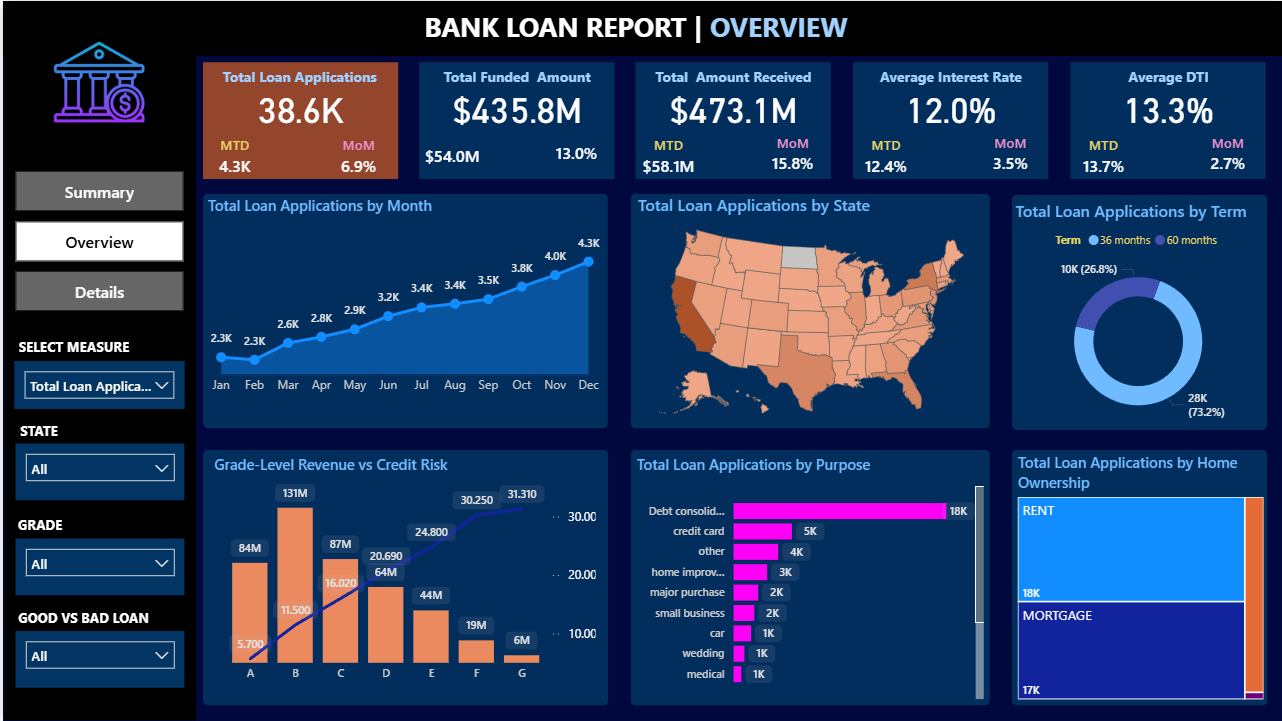

What the dashboard file says about the page in this screenshot:
{"tool":"powerbi","page":{"name":"Overview","canvas":[1280,720],"ordinal":1},"visuals":[{"type":"shape","box":[0,0,1280.3,55],"z":0},{"type":"shape","box":[633.4,61.2,195.4,117],"z":0,"group":"g3"},{"type":"shape","box":[200.3,61.5,195.4,117],"z":0,"group":"g1"},{"type":"shape","box":[417.1,61.5,195.4,117],"z":0,"group":"g2"},{"type":"shape","box":[850.8,61.5,195.4,117],"z":0,"group":"g4"},{"type":"shape","box":[1068.3,61.5,195.4,117],"z":0,"group":"g5"},{"type":"card","fields":{"Values":["bank_loan_data.Total Amount Received"]},"box":[640.6,80.5,181,54.3],"z":1000,"group":"g3"},{"type":"card","fields":{"Values":["bank_loan_data.Total Loan Applications"]},"box":[207.5,80.8,181,54.3],"z":1000,"group":"g1"},{"type":"card","fields":{"Values":["bank_loan_data.Total Funded Amount"]},"box":[424.3,80.8,181,54.3],"z":1000,"group":"g2"},{"type":"card","fields":{"Values":["bank_loan_data.Avg Interest Rate"]},"box":[858,80.8,181,54.3],"z":1000,"group":"g4"},{"type":"card","fields":{"Values":["bank_loan_data.Avg DTI"]},"box":[1075.5,80.8,181,54.3],"z":1000,"group":"g5"},{"type":"shape","box":[200.3,193,405,235],"z":1000},{"type":"shape","box":[1.2,54.3,191.8,666],"z":2000},{"type":"textbox","box":[640,61.2,181,30.2],"z":2000,"group":"g3"},{"type":"textbox","box":[206.3,61.5,181,33.8],"z":2000,"group":"g1"},{"type":"textbox","box":[423.7,61.5,181,30.2],"z":2000,"group":"g2"},{"type":"textbox","box":[857.4,61.5,181,30.2],"z":2000,"group":"g4"},{"type":"textbox","box":[1074.9,61.5,181,30.2],"z":2000,"group":"g5"},{"type":"textbox","box":[416.2,2.4,447.6,51.9],"z":3000},{"type":"card","title":"MTD","fields":{"Values":["bank_loan_data.MTD Loan Applications"]},"box":[200.3,135.1,63.9,43.4],"z":3000,"group":"g1"},{"type":"card","title":"MTD","fields":{"Values":["bank_loan_data.MTD Total Amount Received"]},"box":[632.8,135.4,66.4,43.4],"z":3000,"group":"g3"},{"type":"card","title":"MTD","fields":{"Values":["bank_loan_data.MTD Funded Amount"]},"box":[416.5,135.7,66.4,43.4],"z":3000,"group":"g2"},{"type":"card","title":"MTD","fields":{"Values":["bank_loan_data.MTD Avg Interest Rate"]},"box":[850.2,135.7,66.4,43.4],"z":3000,"group":"g4"},{"type":"card","title":"MTD","fields":{"Values":["bank_loan_data.MTD Avg DTI"]},"box":[1067.7,135.7,66.4,43.4],"z":3000,"group":"g5"},{"type":"group","id":"g1","title":"Group 1","box":[200.3,61.5,195.4,117],"z":4000},{"type":"card","title":"MoM","fields":{"Values":["bank_loan_data.MoM Amount Received"]},"box":[755.9,132.4,70,43.4],"z":4000,"group":"g3"},{"type":"card","title":"MoM","fields":{"Values":["bank_loan_data.MoM Funded Amount"]},"box":[539.6,132.7,70,43.4],"z":4000,"group":"g2"},{"type":"card","title":"MoM","fields":{"Values":["bank_loan_data.MoM Avg Int Rate"]},"box":[973.3,132.7,70,43.4],"z":4000,"group":"g4"},{"type":"card","title":"MoM","fields":{"Values":["bank_loan_data.MoM Avg DTI"]},"box":[1190.8,132.7,70,43.4],"z":4000,"group":"g5"},{"type":"card","title":"MoM","fields":{"Values":["bank_loan_data.MoM Loan Application"]},"box":[324.6,135.1,63.9,43.4],"z":4000,"group":"g1"},{"type":"group","id":"g2","title":"Group 1","box":[416.5,61.5,195.4,117],"z":5000},{"type":"group","id":"g3","title":"Group 1","box":[632.8,61.2,196.6,118.2],"z":6000},{"type":"group","id":"g4","title":"Group 1","box":[850.2,61.5,196.6,118.2],"z":7000},{"type":"group","id":"g5","title":"Group 1","box":[1067.7,61.5,196.6,118.2],"z":8000},{"type":"slicer","fields":{"Values":["bank_loan_data.Good vs Bad Loan"]},"box":[12.1,630,168.9,56.7],"z":9000},{"type":"textbox","box":[0,599.8,156.8,33.8],"z":10000},{"type":"slicer","fields":{"Values":["bank_loan_data.grade"]},"box":[12.1,537.3,168.9,56.7],"z":11000},{"type":"slicer","fields":{"Values":["bank_loan_data.address_state"]},"box":[12.1,443,168.9,56.7],"z":12000},{"type":"textbox","box":[1.2,505.9,67.6,33.8],"z":13000},{"type":"textbox","box":[2.4,412.8,62.7,33.8],"z":14000},{"type":"areaChart","fields":{"Y":["bank_loan_data.Total Loan Applications"],"Category":["Date Table.Month"]},"box":[200.3,194.2,404.2,208.7],"z":15000},{"type":"slicer","fields":{"Values":["Select Measure.Select Measure"]},"box":[10.9,359.7,170.1,48.3],"z":16000},{"type":"textbox","box":[2.4,328.4,136.3,33.8],"z":17000},{"type":"shape","box":[627.3,193,359.5,235.3],"z":18000},{"type":"shapeMap","fields":{"Value":["bank_loan_data.Total Loan Applications"],"Category":["bank_loan_data.address_state"]},"box":[629.8,193,357.1,235.3],"z":19000},{"type":"shape","box":[1008.6,194.2,255.8,235.3],"z":20000},{"type":"donutChart","fields":{"Y":["bank_loan_data.Total Loan Applications"],"Category":["bank_loan_data.term"]},"box":[1007.4,199.1,255.8,234],"z":21000},{"type":"shape","box":[200.3,448.8,405.4,255.8],"z":22000},{"type":"shape","box":[627.3,448.8,359.5,255.8],"z":24000},{"type":"barChart","fields":{"Y":["bank_loan_data.Total Loan Applications"],"Category":["bank_loan_data.purpose"]},"box":[628.6,452.4,357.1,250.9],"z":25000},{"type":"shape","box":[1008.6,448.8,255.8,255.8],"z":26000},{"type":"treemap","fields":{"Values":["bank_loan_data.Total Loan Applications"],"Group":["bank_loan_data.home_ownership"]},"box":[1009.8,451.2,255.8,252.1],"z":27000},{"type":"image","box":[43.4,26.5,105,109.8],"z":28000},{"type":"pageNavigator","box":[13,170.1,168.9,141.2],"z":29000},{"type":"lineClusteredColumnComboChart","title":"Grade-Level Revenue vs Credit Risk","fields":{"Category":["Grade Revenue Risk.grade"],"Y":["Sum(Grade Revenue Risk.total_funded_amount)"],"Y2":["Avg(Grade Revenue Risk.default_rate_percentage)"]},"box":[206.2,452.5,391.2,237.5],"z":29001}]}

Visuals, with their boxes in screenshot pixels (x1, y1, x2, y2), scaled from the page's 1280x720 canvas onto the 1282x721 screenshot:
shape: [0, 0, 1281, 55]
shape: [634, 61, 830, 178]
shape: [201, 62, 396, 179]
shape: [418, 62, 613, 179]
shape: [852, 62, 1048, 179]
shape: [1070, 62, 1266, 179]
card - bank_loan_data.Total Amount Received: [642, 81, 823, 135]
card - bank_loan_data.Total Loan Applications: [208, 81, 389, 135]
card - bank_loan_data.Total Funded Amount: [425, 81, 606, 135]
card - bank_loan_data.Avg Interest Rate: [859, 81, 1041, 135]
card - bank_loan_data.Avg DTI: [1077, 81, 1258, 135]
shape: [201, 193, 606, 429]
shape: [1, 54, 193, 720]
textbox: [641, 61, 822, 92]
textbox: [207, 62, 388, 95]
textbox: [424, 62, 606, 92]
textbox: [859, 62, 1040, 92]
textbox: [1077, 62, 1258, 92]
textbox: [417, 2, 865, 54]
"MTD" card: [201, 135, 265, 179]
"MTD" card: [634, 136, 700, 179]
"MTD" card: [417, 136, 484, 179]
"MTD" card: [852, 136, 918, 179]
"MTD" card: [1069, 136, 1136, 179]
"Group 1" group: [201, 62, 396, 179]
"MoM" card: [757, 133, 827, 176]
"MoM" card: [540, 133, 611, 176]
"MoM" card: [975, 133, 1045, 176]
"MoM" card: [1193, 133, 1263, 176]
"MoM" card: [325, 135, 389, 179]
"Group 1" group: [417, 62, 613, 179]
"Group 1" group: [634, 61, 831, 180]
"Group 1" group: [852, 62, 1048, 180]
"Group 1" group: [1069, 62, 1266, 180]
slicer - bank_loan_data.Good vs Bad Loan: [12, 631, 181, 688]
textbox: [0, 601, 157, 634]
slicer - bank_loan_data.grade: [12, 538, 181, 595]
slicer - bank_loan_data.address_state: [12, 444, 181, 500]
textbox: [1, 507, 69, 540]
textbox: [2, 413, 65, 447]
areaChart - bank_loan_data.Total Loan Applications x Date Table.Month: [201, 194, 605, 403]
slicer - Select Measure.Select Measure: [11, 360, 181, 409]
textbox: [2, 329, 139, 363]
shape: [628, 193, 988, 429]
shapeMap - bank_loan_data.Total Loan Applications x bank_loan_data.address_state: [631, 193, 988, 429]
shape: [1010, 194, 1266, 430]
donutChart - bank_loan_data.Total Loan Applications x bank_loan_data.term: [1009, 199, 1265, 434]
shape: [201, 449, 607, 706]
shape: [628, 449, 988, 706]
barChart - bank_loan_data.Total Loan Applications x bank_loan_data.purpose: [630, 453, 987, 704]
shape: [1010, 449, 1266, 706]
treemap - bank_loan_data.Total Loan Applications x bank_loan_data.home_ownership: [1011, 452, 1268, 704]
image: [43, 27, 149, 136]
pageNavigator: [13, 170, 182, 312]
"Grade-Level Revenue vs Credit Risk" lineClusteredColumnComboChart: [207, 453, 598, 691]
